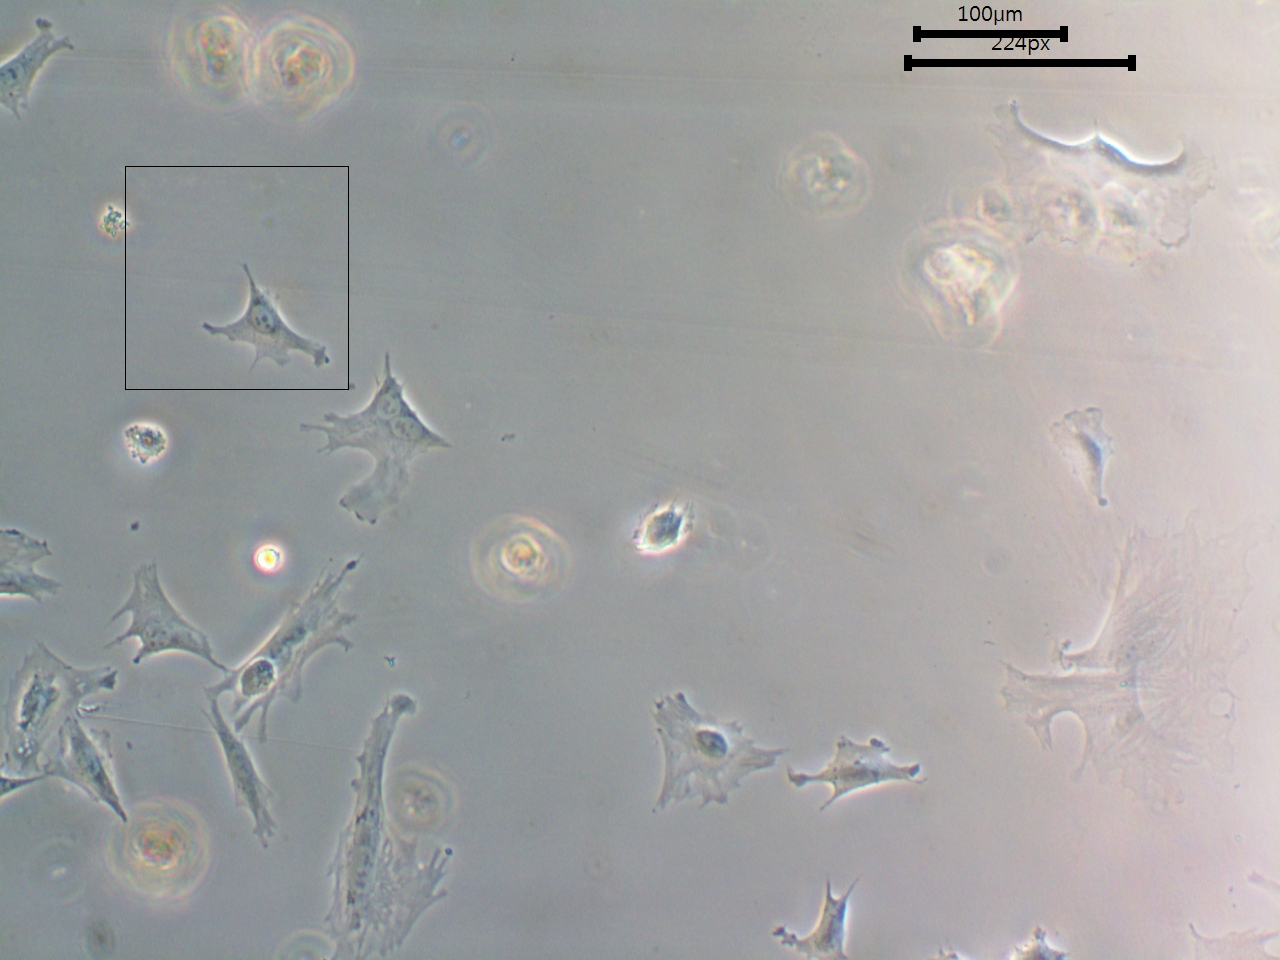dividing: (306, 355, 479, 523)
large-polygonal: (326, 688, 409, 946)
medium-polygonal: (203, 257, 329, 374), (202, 700, 284, 858), (43, 715, 137, 841), (115, 564, 226, 669), (785, 734, 930, 806)
medium-spread: (648, 686, 775, 814)
small-polygonal: (1045, 400, 1114, 514)
small-round: (117, 416, 172, 471)
small-spread: (631, 497, 707, 563)
